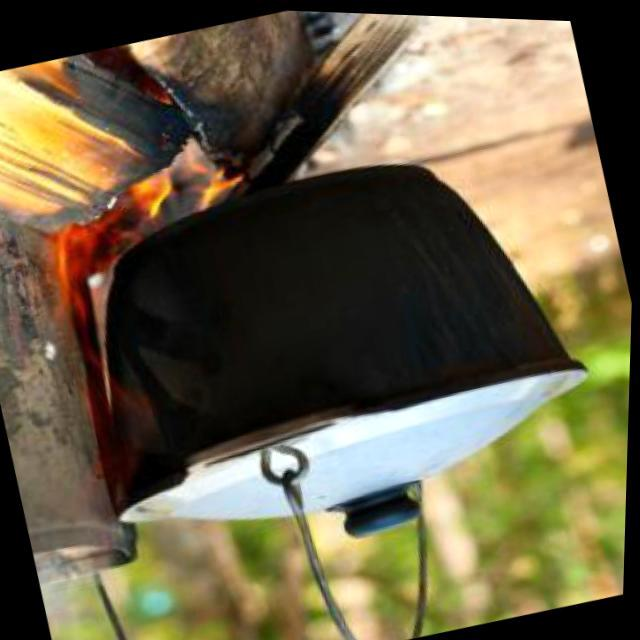fire: (3, 138, 260, 330)
